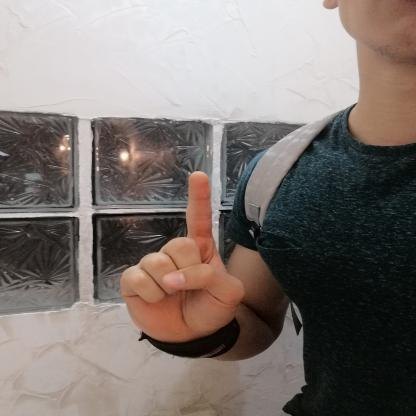BAA: (110, 162, 250, 352)
